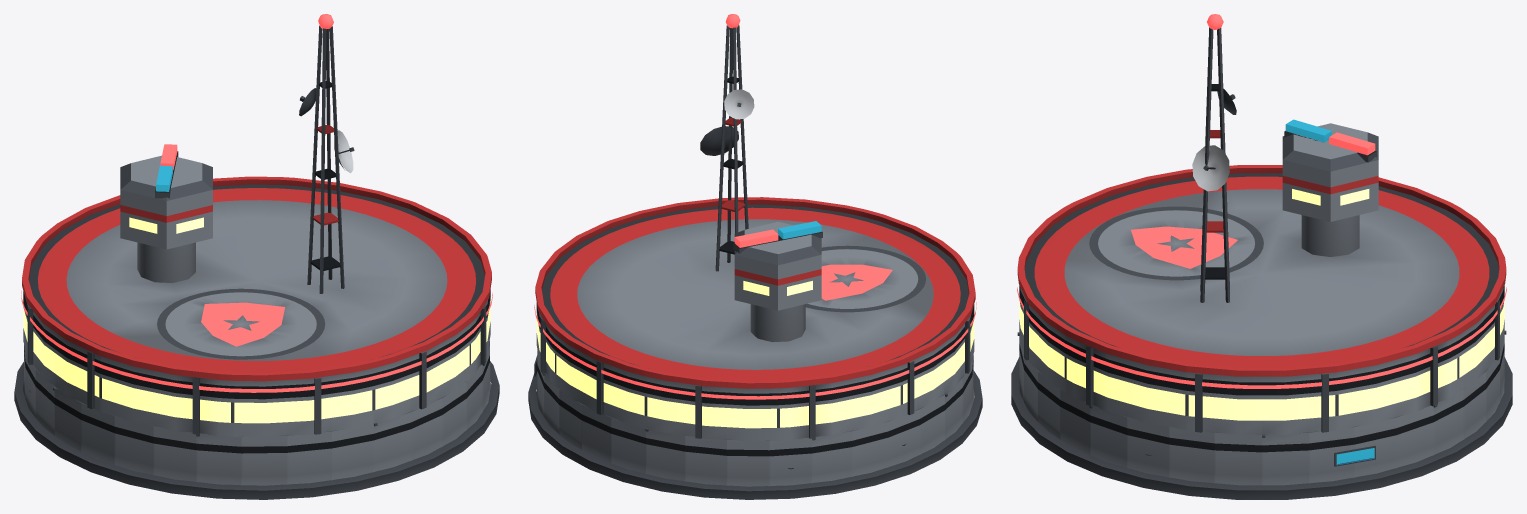
File: security_office_s.glb
The picture shows the model from 3 angles, left to right: view 1: azimuth 30°, elevation 25°; view 2: azimuth 150°, elevation 25°; view 3: azimuth 270°, elevation 25°; orthographic projection. The views are drawn at different scales.
Visible parts, largest first — view 1: Roof, Base, PorchTop, Upper_20, Upper_21, Upper_22, Wall_21, Upper_23, Wall_20, Upper_19, Wall_22, Wall_19 (+19 smaller); view 2: Roof, Base, PorchTop, Upper_11, Upper_10, Upper_09, Upper_12, Upper_08, Wall_10, Wall_11, Wall_09, Wall_12 (+19 smaller); view 3: Roof, Base, PorchTop, Upper_00, Upper_31, Upper_01, Upper_30, Wall_00, Wall_31, Wall_30, Upper_02, Upper_29 (+20 smaller).
Part boxes in pixels (x1=…): Roof: x1=22, y1=25, x2=491, y2=381; Base: x1=14, y1=361, x2=499, y2=499; PorchTop: x1=21, y1=14, x2=492, y2=392; Upper_20: x1=195, y1=377, x2=241, y2=436; Upper_21: x1=241, y1=380, x2=287, y2=437; Upper_22: x1=287, y1=375, x2=331, y2=435; Wall_21: x1=241, y1=435, x2=287, y2=485; Upper_23: x1=331, y1=368, x2=373, y2=430; Wall_20: x1=196, y1=433, x2=241, y2=485; Upper_19: x1=154, y1=371, x2=196, y2=434; Wall_22: x1=287, y1=431, x2=331, y2=484; Wall_19: x1=153, y1=426, x2=196, y2=481; Roof: x1=535, y1=25, x2=975, y2=388; Base: x1=528, y1=370, x2=982, y2=499; PorchTop: x1=534, y1=14, x2=976, y2=399; Upper_11: x1=769, y1=385, x2=812, y2=440; Upper_10: x1=727, y1=387, x2=769, y2=441; Upper_09: x1=685, y1=383, x2=726, y2=439; Upper_12: x1=812, y1=379, x2=851, y2=438; Upper_08: x1=646, y1=376, x2=685, y2=435; Wall_10: x1=727, y1=439, x2=769, y2=486; Wall_11: x1=769, y1=437, x2=811, y2=485; Wall_09: x1=685, y1=435, x2=726, y2=485; Wall_12: x1=812, y1=431, x2=852, y2=483; Roof: x1=1017, y1=27, x2=1506, y2=376; Base: x1=1011, y1=357, x2=1512, y2=499; PorchTop: x1=1017, y1=14, x2=1506, y2=388; Upper_00: x1=1262, y1=374, x2=1308, y2=434; Upper_31: x1=1215, y1=374, x2=1261, y2=434; Upper_01: x1=1309, y1=369, x2=1354, y2=432; Upper_30: x1=1169, y1=369, x2=1214, y2=432; Wall_00: x1=1262, y1=432, x2=1309, y2=485; Wall_31: x1=1214, y1=432, x2=1261, y2=485; Wall_30: x1=1169, y1=426, x2=1214, y2=483; Upper_02: x1=1354, y1=360, x2=1395, y2=426; Upper_29: x1=1128, y1=360, x2=1169, y2=426.
Bounding box in the file's own units: 11.74 × 10.42 × 11.74.
